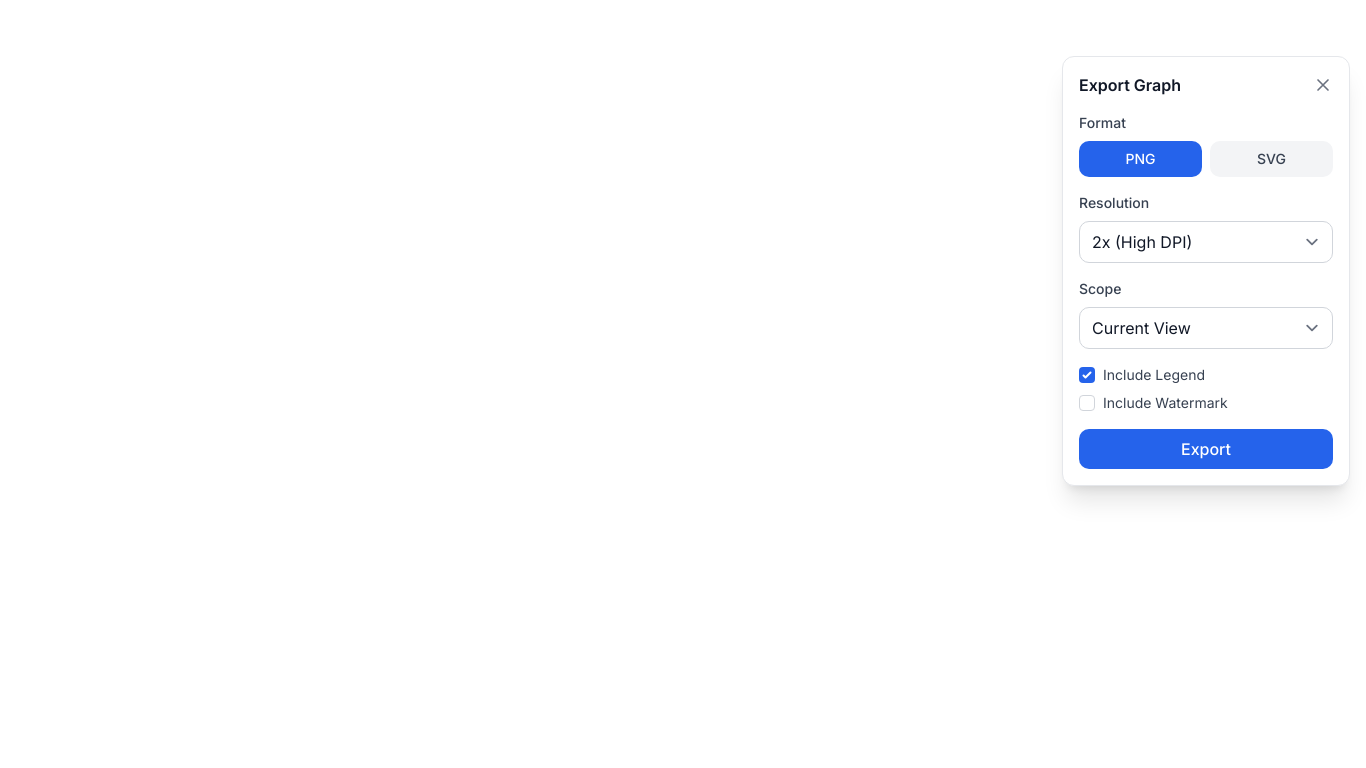
it: ExportMenu › should hide resolution options when SVG is selected
Click the button "SVG" at (1272, 159), box top-left (1210, 141), bottom-right (1333, 177)
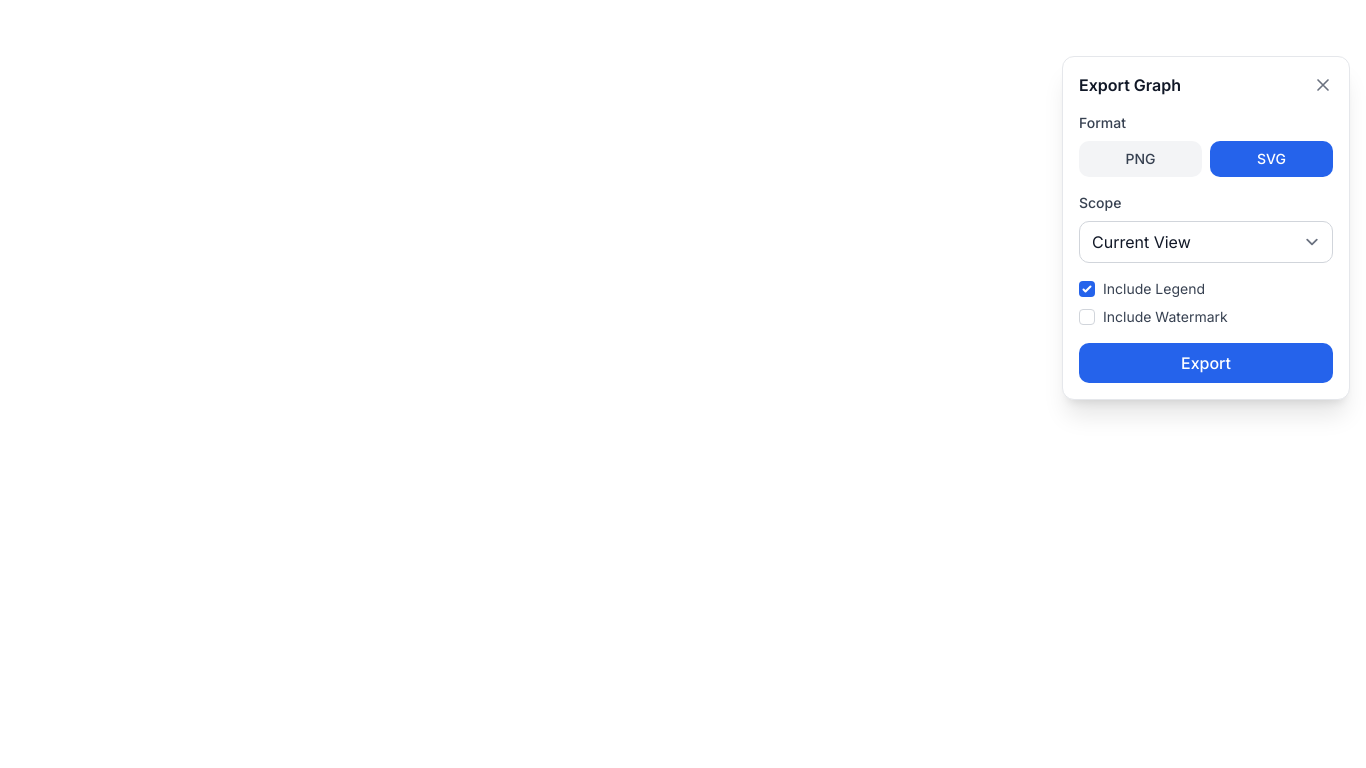
Expected: the text "Resolution" is gone
